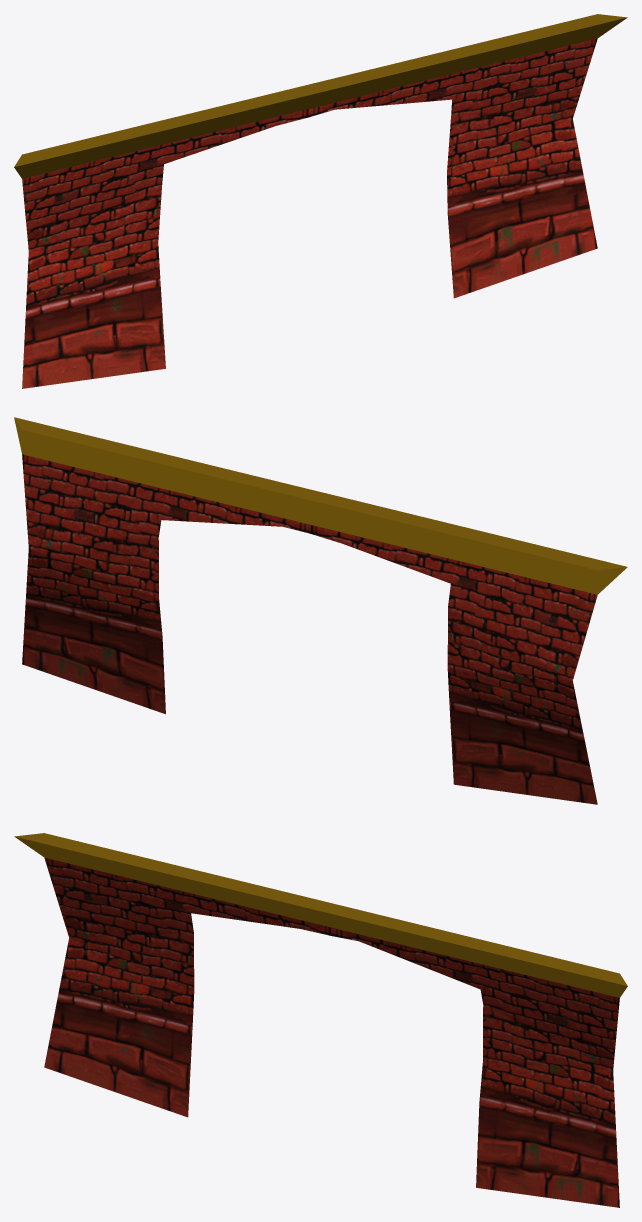
The model's file is W_A1_GroßesTor_1878.glb.
The picture shows the model from 3 angles, top to bottom: view 1: azimuth 30°, elevation 25°; view 2: azimuth 150°, elevation 25°; view 3: azimuth 330°, elevation 25°; orthographic projection.
Parts seen in each view (by area): view 1: polySurfaceShape787, polySurfaceShape1065; view 2: polySurfaceShape787, polySurfaceShape1065; view 3: polySurfaceShape787, polySurfaceShape1065.
Boxes of the visible parts, x1,y1,x2,y2 form: polySurfaceShape787: [22, 38, 597, 388]; polySurfaceShape1065: [14, 14, 627, 178]; polySurfaceShape787: [22, 454, 597, 804]; polySurfaceShape1065: [14, 417, 627, 594]; polySurfaceShape787: [44, 857, 619, 1207]; polySurfaceShape1065: [14, 833, 627, 997].
Bounding box in the file's own units: 1.07 × 0.414 × 0.0607.
2 materials, 1 textured.
